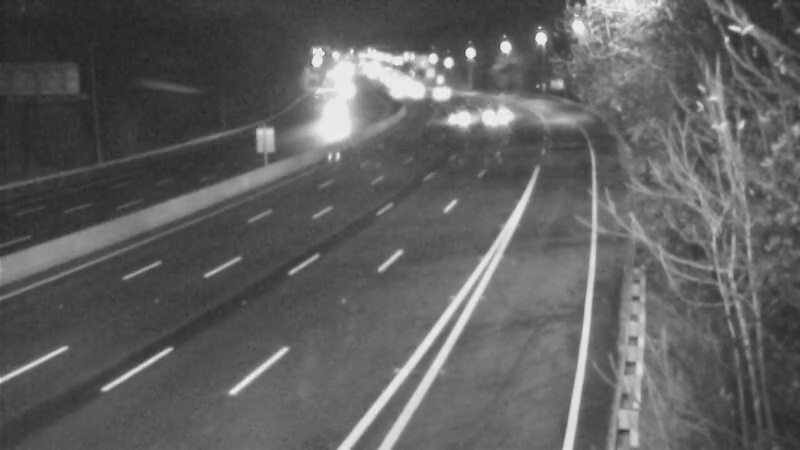vehicle: (411, 70, 461, 120), (470, 92, 520, 142), (425, 95, 475, 145), (305, 108, 355, 158)
